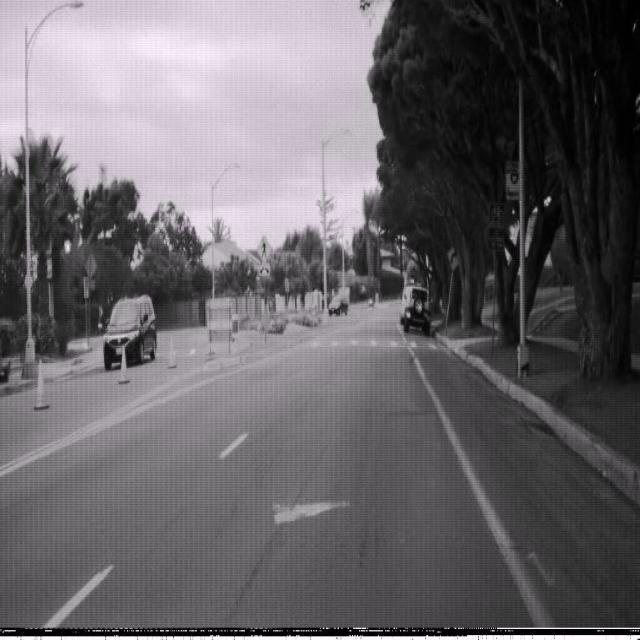pedestrianCrossing: (255, 233, 273, 267)
